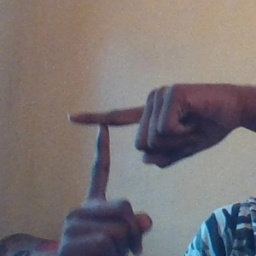T: (56, 89, 164, 217)
